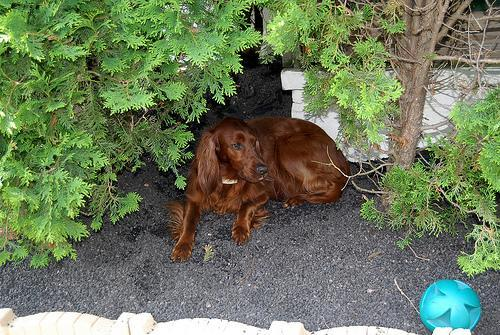Irish_setter: (169, 114, 351, 264)
